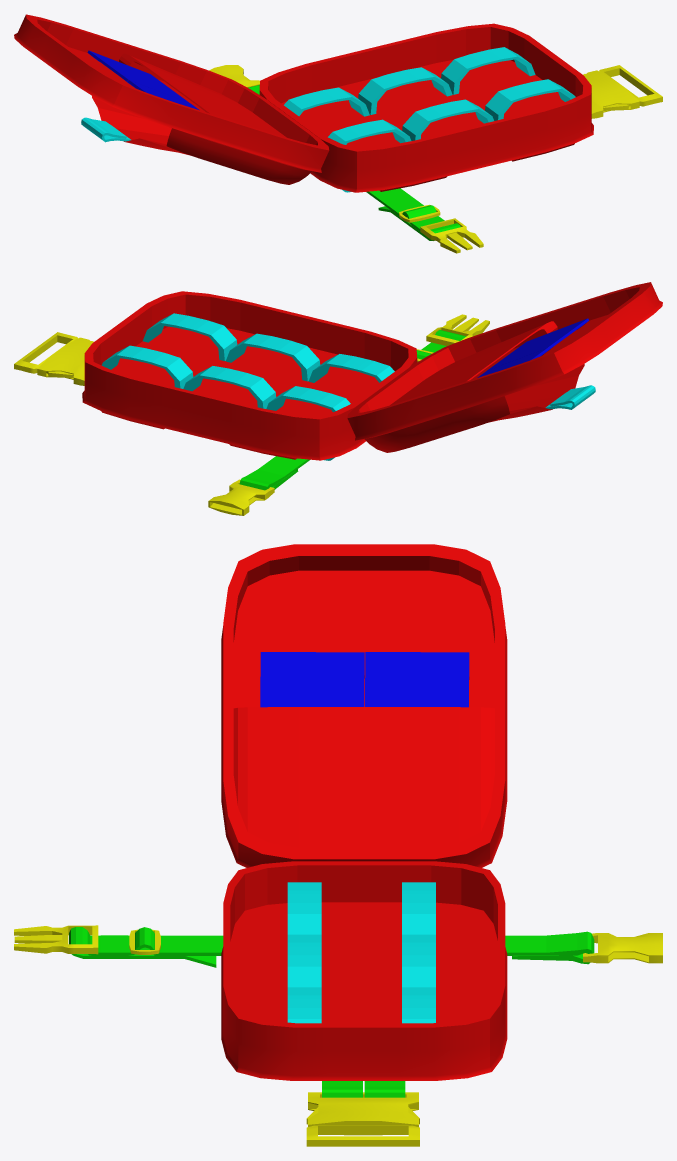
Rendered from medic pouch open.fbx.
3 renders of one model, top to bottom at view 1: azimuth 30°, elevation 25°; view 2: azimuth 150°, elevation 25°; view 3: azimuth 270°, elevation 25°, orthographic. The views are drawn at different scales.
Parts seen in each view (by area): view 1: polySurface135, polySurface130; view 2: polySurface135, polySurface130; view 3: polySurface130, polySurface135.
Part boxes in pixels (x1,y1,x2,y2): polySurface135: (209,23,662,253); polySurface130: (14,14,329,184); polySurface135: (14,291,489,515); polySurface130: (347,282,662,452); polySurface130: (221,544,507,867); polySurface135: (14,861,662,1146).
Size of the model in its own units: 85.11 by 25.63 by 62.37.
